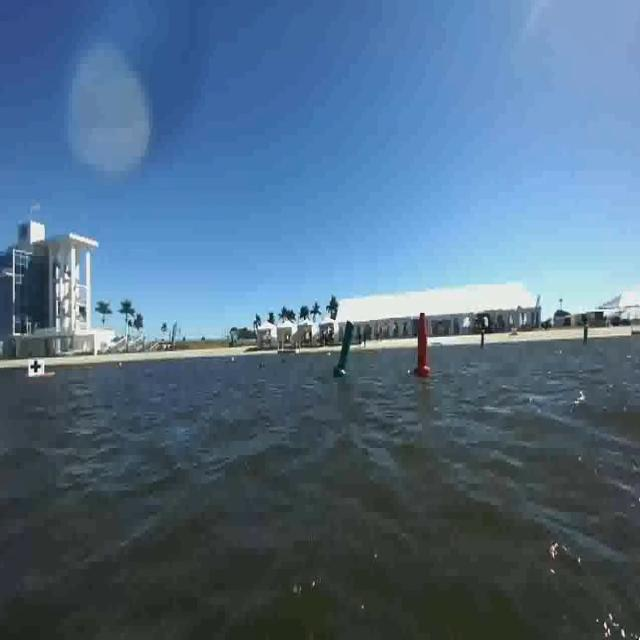green-column-buoy: (335, 318, 358, 378)
red-column-buoy: (413, 310, 433, 378)
